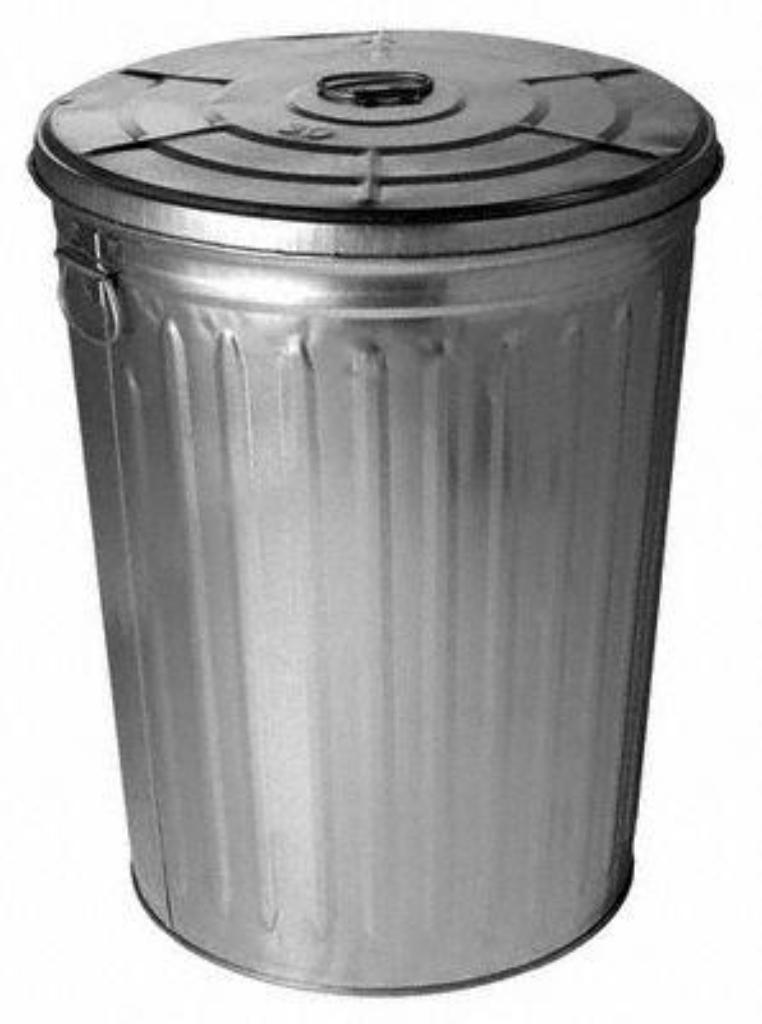dustbin: (6, 35, 762, 984)
